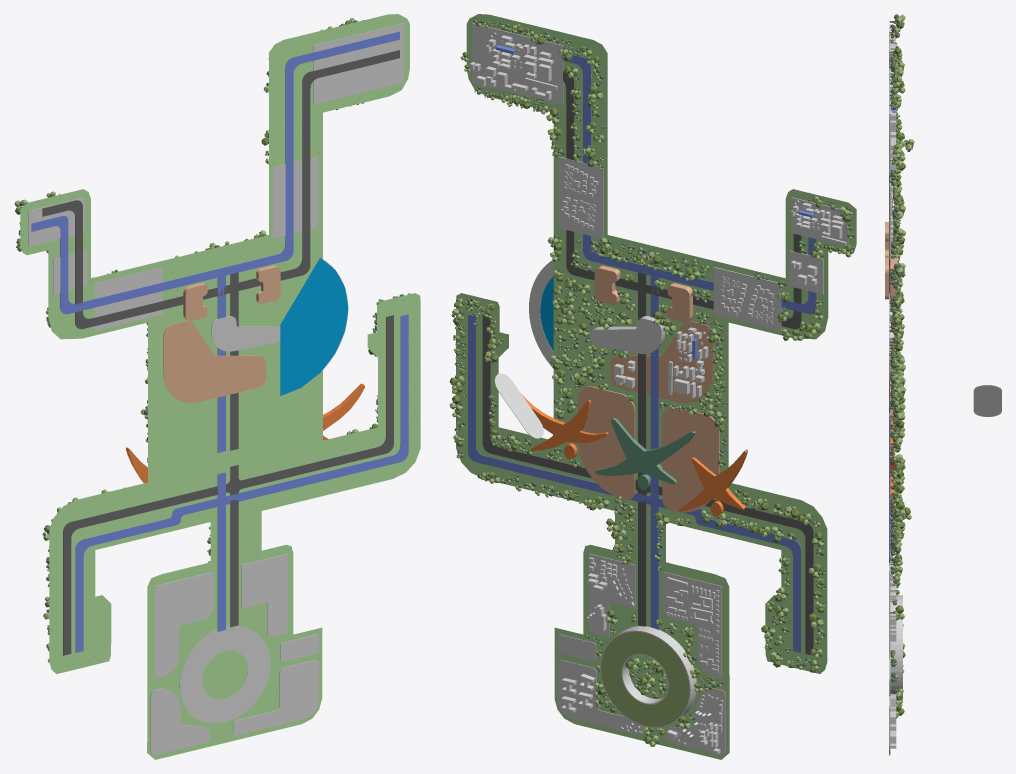
3 renders of one model, left to right at view 1: azimuth 30°, elevation 25°; view 2: azimuth 150°, elevation 25°; view 3: azimuth 270°, elevation 25°, orthographic. The views are drawn at different scales.
Visible parts, largest first — view 1: imagetostl_mesh; view 2: imagetostl_mesh; view 3: imagetostl_mesh.
Part boxes in pixels (x1,y1,x2,y2): imagetostl_mesh: (14, 14, 420, 759); imagetostl_mesh: (449, 14, 856, 759); imagetostl_mesh: (885, 14, 1001, 755).
Size of the model in its own units: 3541 by 5810 by 869.
